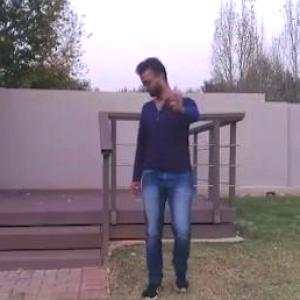takeoff-hand: (160, 76, 188, 114)
